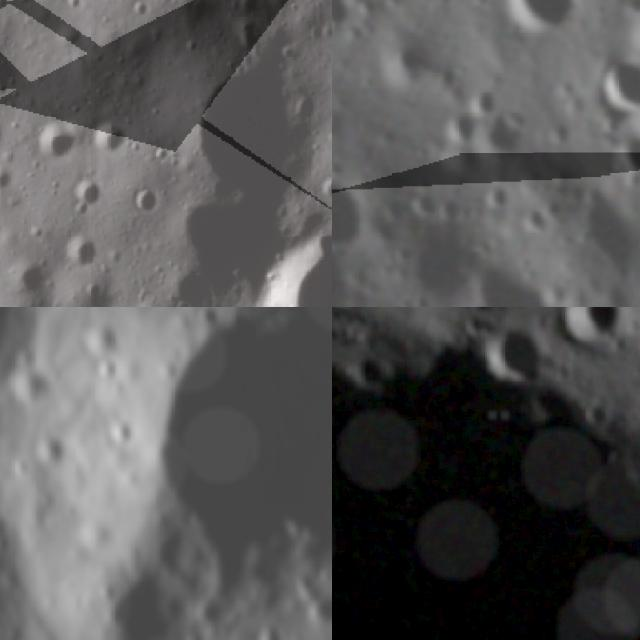crater: (94, 307, 332, 605), (183, 49, 314, 201), (471, 261, 565, 307), (266, 242, 332, 307), (401, 236, 466, 302), (6, 357, 70, 423), (332, 179, 371, 259), (30, 426, 80, 482), (596, 55, 640, 117), (489, 332, 544, 380), (566, 307, 632, 346), (504, 0, 578, 31), (34, 120, 84, 163), (245, 607, 305, 640), (68, 170, 106, 218), (607, 131, 640, 185), (11, 261, 49, 306), (442, 110, 480, 147), (468, 87, 505, 121), (393, 44, 428, 79), (67, 232, 98, 270), (95, 122, 128, 157), (516, 205, 550, 238), (409, 190, 442, 221), (540, 195, 567, 227), (161, 626, 214, 640), (332, 0, 352, 34), (484, 182, 509, 208), (134, 192, 161, 215), (438, 198, 461, 225), (568, 184, 586, 210), (0, 163, 13, 194), (319, 176, 332, 205)
